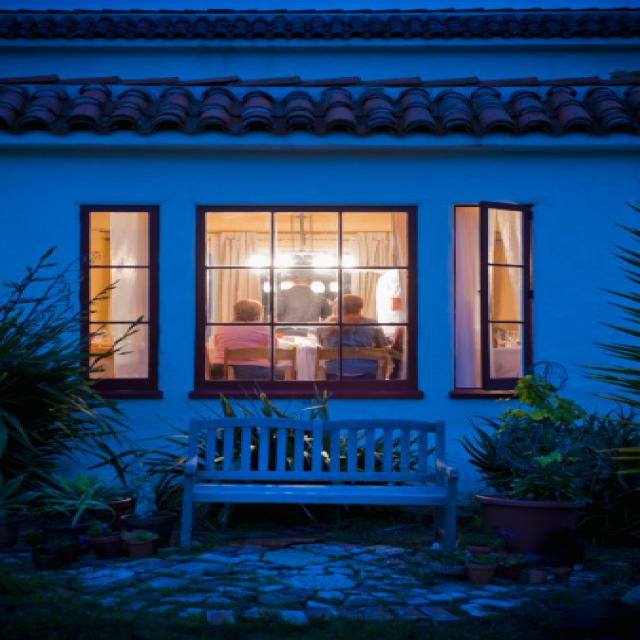People: (313, 288, 398, 381), (209, 295, 285, 386)
chair: (169, 403, 486, 560), (210, 336, 304, 377), (309, 344, 400, 385)
